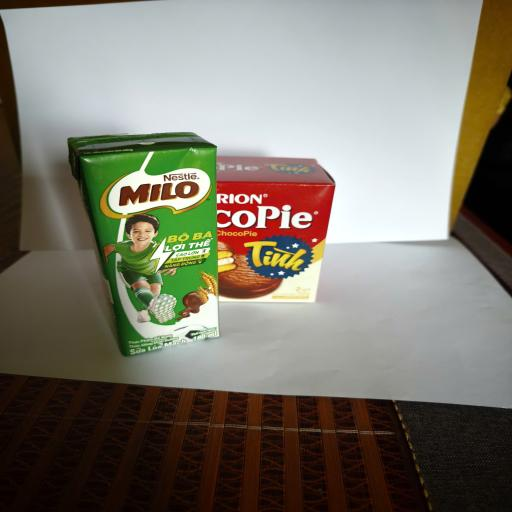chocopie: (216, 156, 336, 302)
milo: (68, 132, 221, 357)
